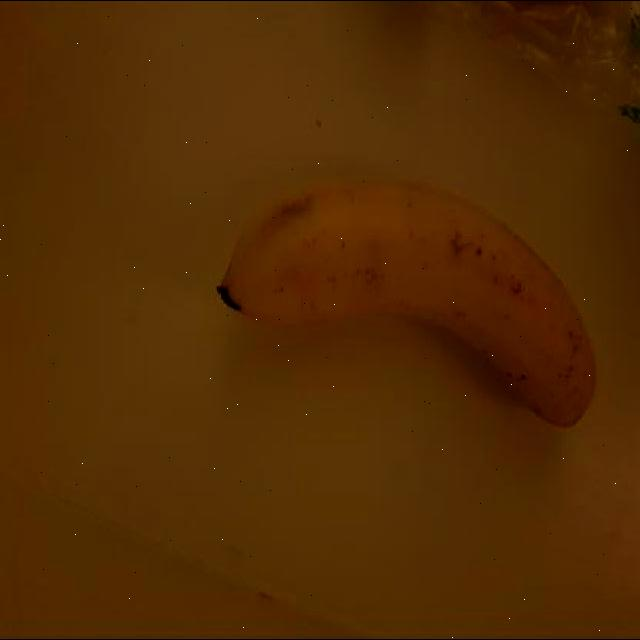banana: (216, 177, 607, 436)
